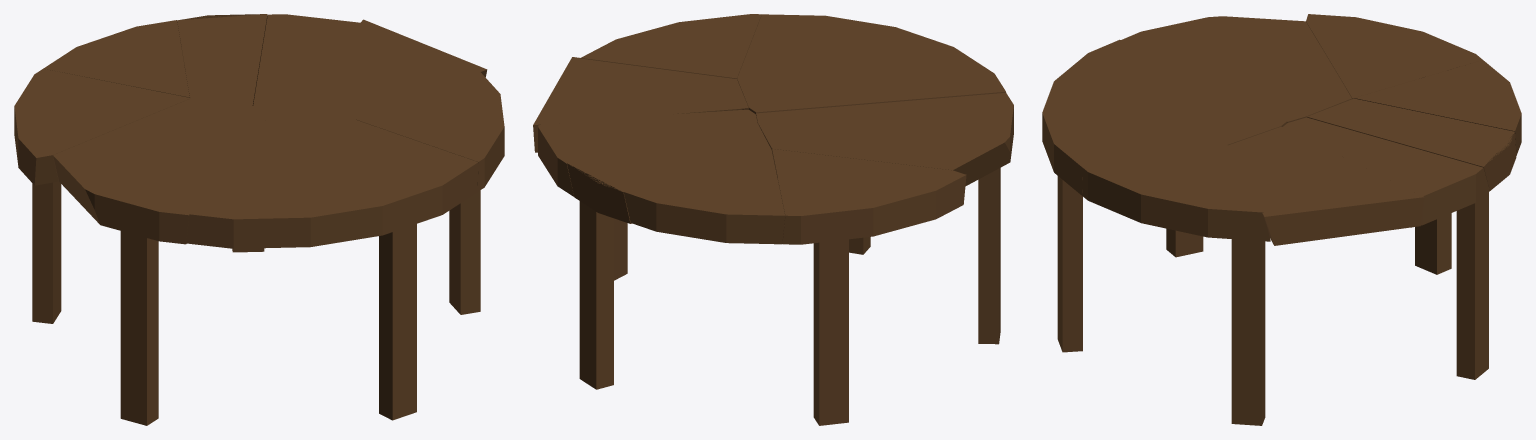
Rendered from table2-parts.fbx.
3 views of the same model, side by side, from view 1: azimuth 30°, elevation 25°; view 2: azimuth 150°, elevation 25°; view 3: azimuth 270°, elevation 25° (orthographic). The views are drawn at different scales.
Parts seen in each view (by area): view 1: table2_cell, table2_cell.006, table2_cell.005, table2_cell.001, table2_cell.008, leg4, leg5, table2_cell.004, table2_cell.003, table2_cell.002, leg3, leg1; view 2: table2_cell, table2_cell.006, table2_cell.001, table2_cell.003, table2_cell.005, table2_cell.004, table2_cell.002, table2_cell.008, leg3, leg2, leg4, leg1; view 3: table2_cell, table2_cell.005, table2_cell.006, table2_cell.008, table2_cell.001, table2_cell.002, table2_cell.004, leg1, table2_cell.003, leg2, leg5, leg3 (+1 smaller).
Boxes of the visible parts, x1=… form: table2_cell: x1=186, y1=109, x2=478, y2=248; table2_cell.006: x1=53, y1=98, x2=273, y2=244; table2_cell.005: x1=289, y1=19, x2=487, y2=119; table2_cell.001: x1=14, y1=68, x2=190, y2=185; table2_cell.008: x1=356, y1=71, x2=504, y2=191; leg4: x1=120, y1=231, x2=158, y2=425; leg5: x1=379, y1=224, x2=416, y2=420; table2_cell.004: x1=177, y1=14, x2=267, y2=105; table2_cell.003: x1=43, y1=20, x2=189, y2=97; table2_cell.002: x1=252, y1=14, x2=359, y2=110; leg3: x1=32, y1=181, x2=61, y2=323; leg1: x1=449, y1=190, x2=480, y2=314; table2_cell: x1=737, y1=14, x2=1005, y2=115; table2_cell.006: x1=756, y1=92, x2=1013, y2=186; table2_cell.001: x1=772, y1=149, x2=966, y2=244; table2_cell.003: x1=623, y1=149, x2=785, y2=244; table2_cell.005: x1=533, y1=57, x2=748, y2=152; table2_cell.004: x1=567, y1=123, x2=771, y2=223; table2_cell.002: x1=538, y1=109, x2=757, y2=196; table2_cell.008: x1=580, y1=14, x2=761, y2=78; leg3: x1=813, y1=239, x2=848, y2=425; leg2: x1=579, y1=201, x2=613, y2=389; leg4: x1=978, y1=168, x2=1000, y2=344; leg1: x1=614, y1=218, x2=627, y2=280; table2_cell: x1=1042, y1=39, x2=1287, y2=195; table2_cell.005: x1=1228, y1=126, x2=1424, y2=245; table2_cell.006: x1=1121, y1=16, x2=1351, y2=122; table2_cell.008: x1=1082, y1=145, x2=1270, y2=241; table2_cell.001: x1=1306, y1=14, x2=1482, y2=98; table2_cell.002: x1=1283, y1=117, x2=1489, y2=227; table2_cell.004: x1=1307, y1=98, x2=1516, y2=190; leg1: x1=1231, y1=239, x2=1265, y2=425; table2_cell.003: x1=1354, y1=60, x2=1521, y2=155; leg2: x1=1456, y1=192, x2=1488, y2=379; leg5: x1=1057, y1=176, x2=1082, y2=352; leg3: x1=1415, y1=213, x2=1451, y2=274.
Bounding box in the file's own units: 3.96 × 1.98 × 3.94.
